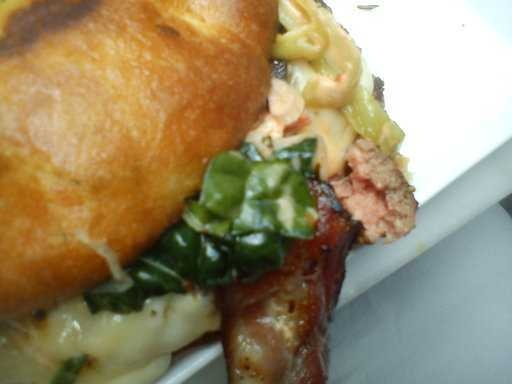hamburger: (1, 1, 299, 363)
